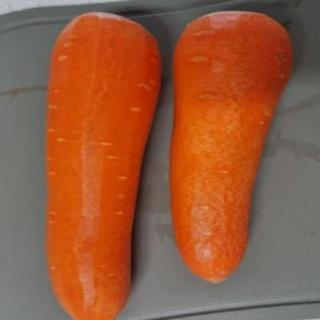carrot: (37, 3, 165, 320), (169, 6, 299, 288)
